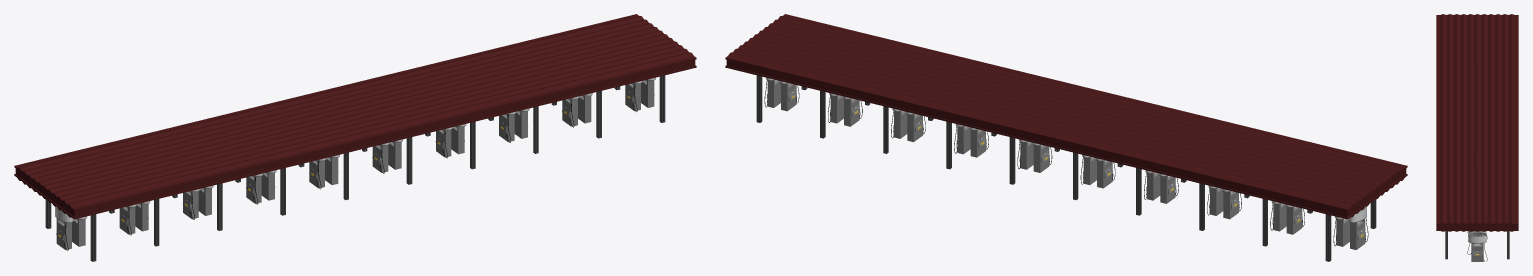
The model's file is gas station.glb.
The picture shows the model from 3 angles, left to right: view 1: azimuth 30°, elevation 25°; view 2: azimuth 150°, elevation 25°; view 3: azimuth 270°, elevation 25°; orthographic projection. The views are drawn at different scales.
Visible parts, largest first — view 1: Cube.004, Cube.006, Cube.007, Cube.005, Cube.003, Cube.001, Cylinder.019, Cylinder.003, Cylinder.017, Cylinder.005, Cylinder.013, Cylinder.007 (+4 smaller); view 2: Cube.004, Cube.006, Cube.007, Cube.005, Cylinder.019, Cube.003, Cube.001, Cylinder.003, Cylinder.017, Cylinder.005, Cylinder.007, Cylinder.013 (+14 smaller); view 3: Cube.004, Cylinder.010, Cube.005.
Part boxes in pixels (bbox=[...]): Cube.004: bbox=[14, 14, 696, 219]; Cube.006: bbox=[45, 199, 159, 261]; Cube.007: bbox=[298, 137, 412, 200]; Cube.005: bbox=[551, 75, 665, 138]; Cube.003: bbox=[425, 106, 538, 169]; Cube.001: bbox=[172, 168, 285, 230]; Cylinder.019: bbox=[55, 206, 73, 250]; Cylinder.003: bbox=[372, 142, 389, 173]; Cylinder.017: bbox=[119, 204, 136, 235]; Cylinder.005: bbox=[435, 127, 452, 158]; Cylinder.013: bbox=[246, 173, 263, 204]; Cylinder.007: bbox=[499, 112, 516, 142]; Cube.004: bbox=[725, 14, 1407, 219]; Cube.006: bbox=[1262, 199, 1376, 261]; Cube.007: bbox=[1009, 137, 1123, 200]; Cube.005: bbox=[756, 75, 870, 138]; Cylinder.019: bbox=[1348, 206, 1368, 249]; Cube.003: bbox=[883, 106, 996, 169]; Cube.001: bbox=[1136, 168, 1249, 230]; Cylinder.003: bbox=[1032, 142, 1052, 172]; Cylinder.017: bbox=[1285, 204, 1304, 234]; Cylinder.005: bbox=[969, 127, 988, 157]; Cylinder.007: bbox=[905, 112, 925, 142]; Cylinder.013: bbox=[1158, 173, 1178, 203]; Cube.004: bbox=[1436, 14, 1518, 231]; Cylinder.010: bbox=[1468, 232, 1487, 261]; Cube.005: bbox=[1445, 231, 1509, 259].
Size of the model in its own units: 78.75 by 7.84 by 13.13.
